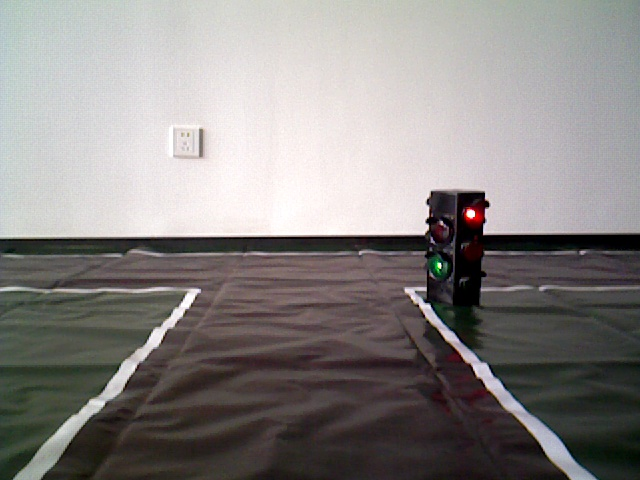red: (430, 197, 484, 307)
